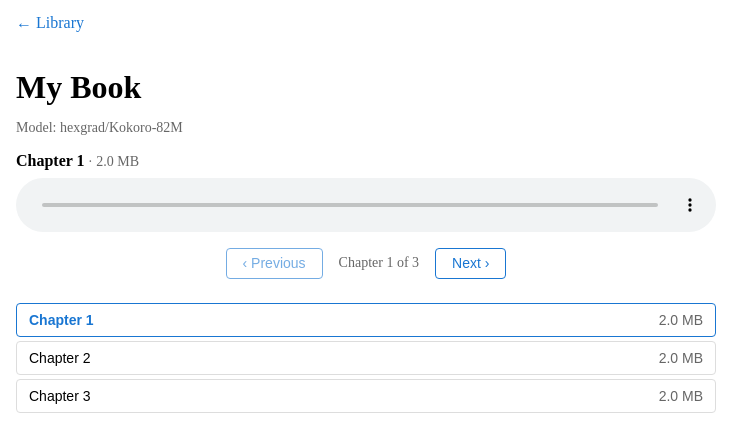
PlaybackView › disables previous on the first chapter and next on the last chapter
The width and height of the screenshot is (733, 430).
Expected: the button "‹ Previous" is disabled, [226,248,323,279]
Expected: the button "Next ›" is enabled, [435,248,506,279]
// Move to last chapter
Click the button with class "chapter-link" showing "Chapter 3 2.0 MB" at (60, 396), box [16,379,716,413]
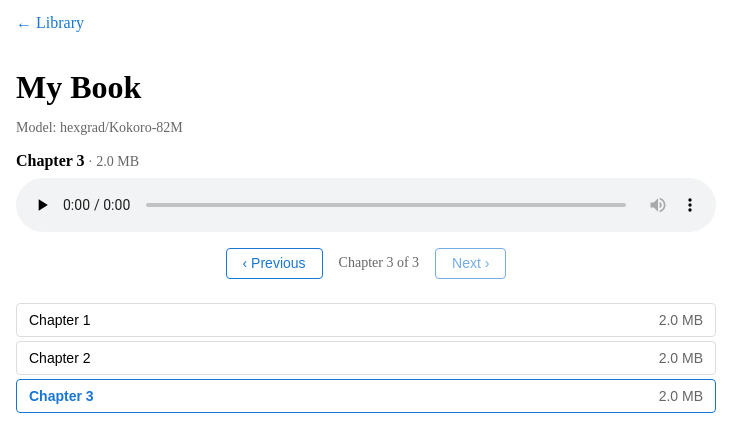
Now the button "‹ Previous" is enabled, box [226,248,323,279]
Now the button "Next ›" is disabled, box [435,248,506,279]
